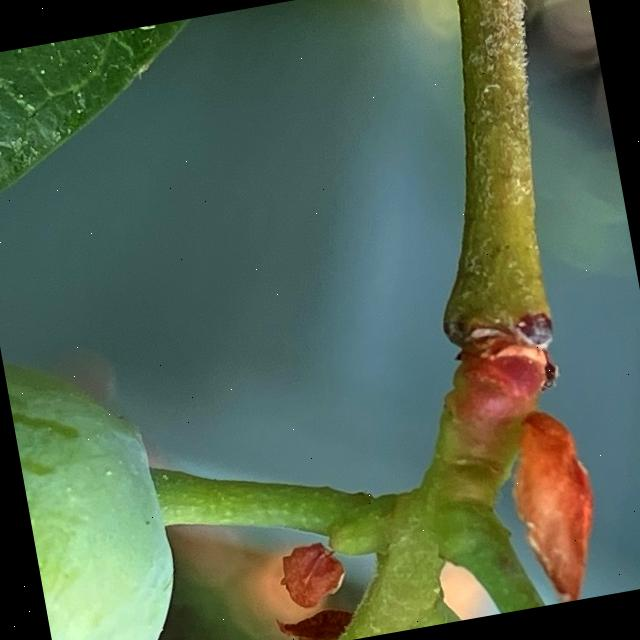Blueberries: (2, 337, 197, 640)
